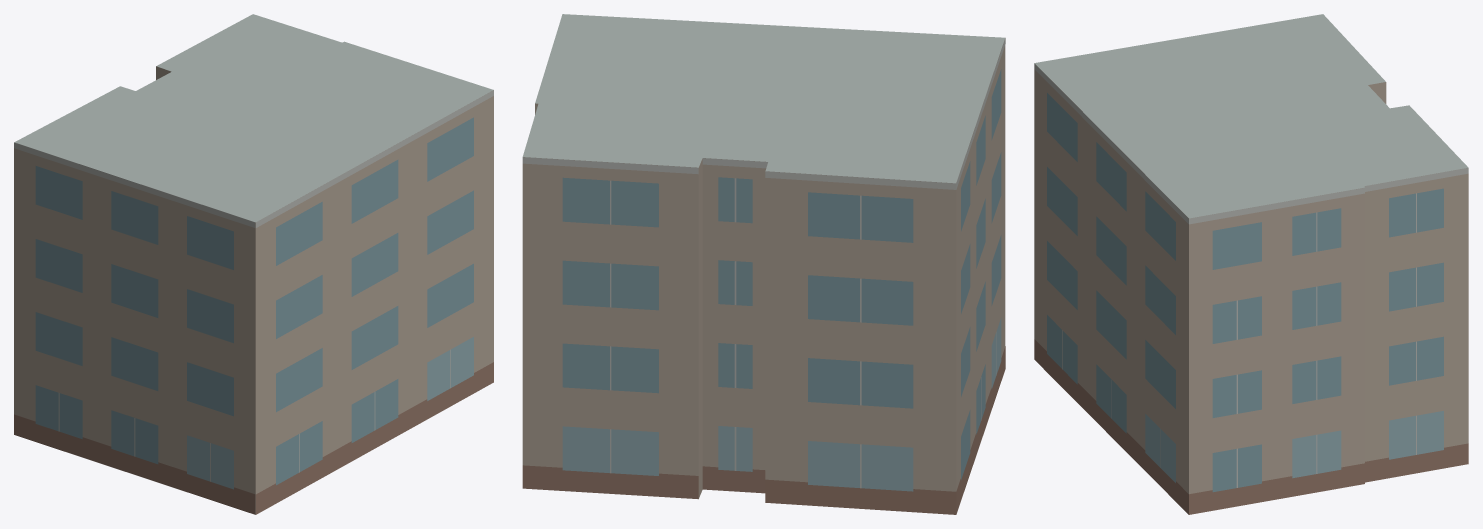
Rendered from survey-upis-33003721.glb.
3 views of the same model, side by side, from view 1: azimuth 30°, elevation 25°; view 2: azimuth 150°, elevation 25°; view 3: azimuth 270°, elevation 25° (orthographic). The views are drawn at different scales.
Visible parts, largest first — view 1: survey-upis-33003721.tmp; view 2: survey-upis-33003721.tmp; view 3: survey-upis-33003721.tmp.
Boxes of the visible parts, box(x1,y1,x2,y2) form: survey-upis-33003721.tmp: box(14, 14, 493, 514); survey-upis-33003721.tmp: box(522, 14, 1005, 514); survey-upis-33003721.tmp: box(1034, 14, 1468, 514).
Size of the model in its own units: 18.06 by 12.2 by 16.21.
